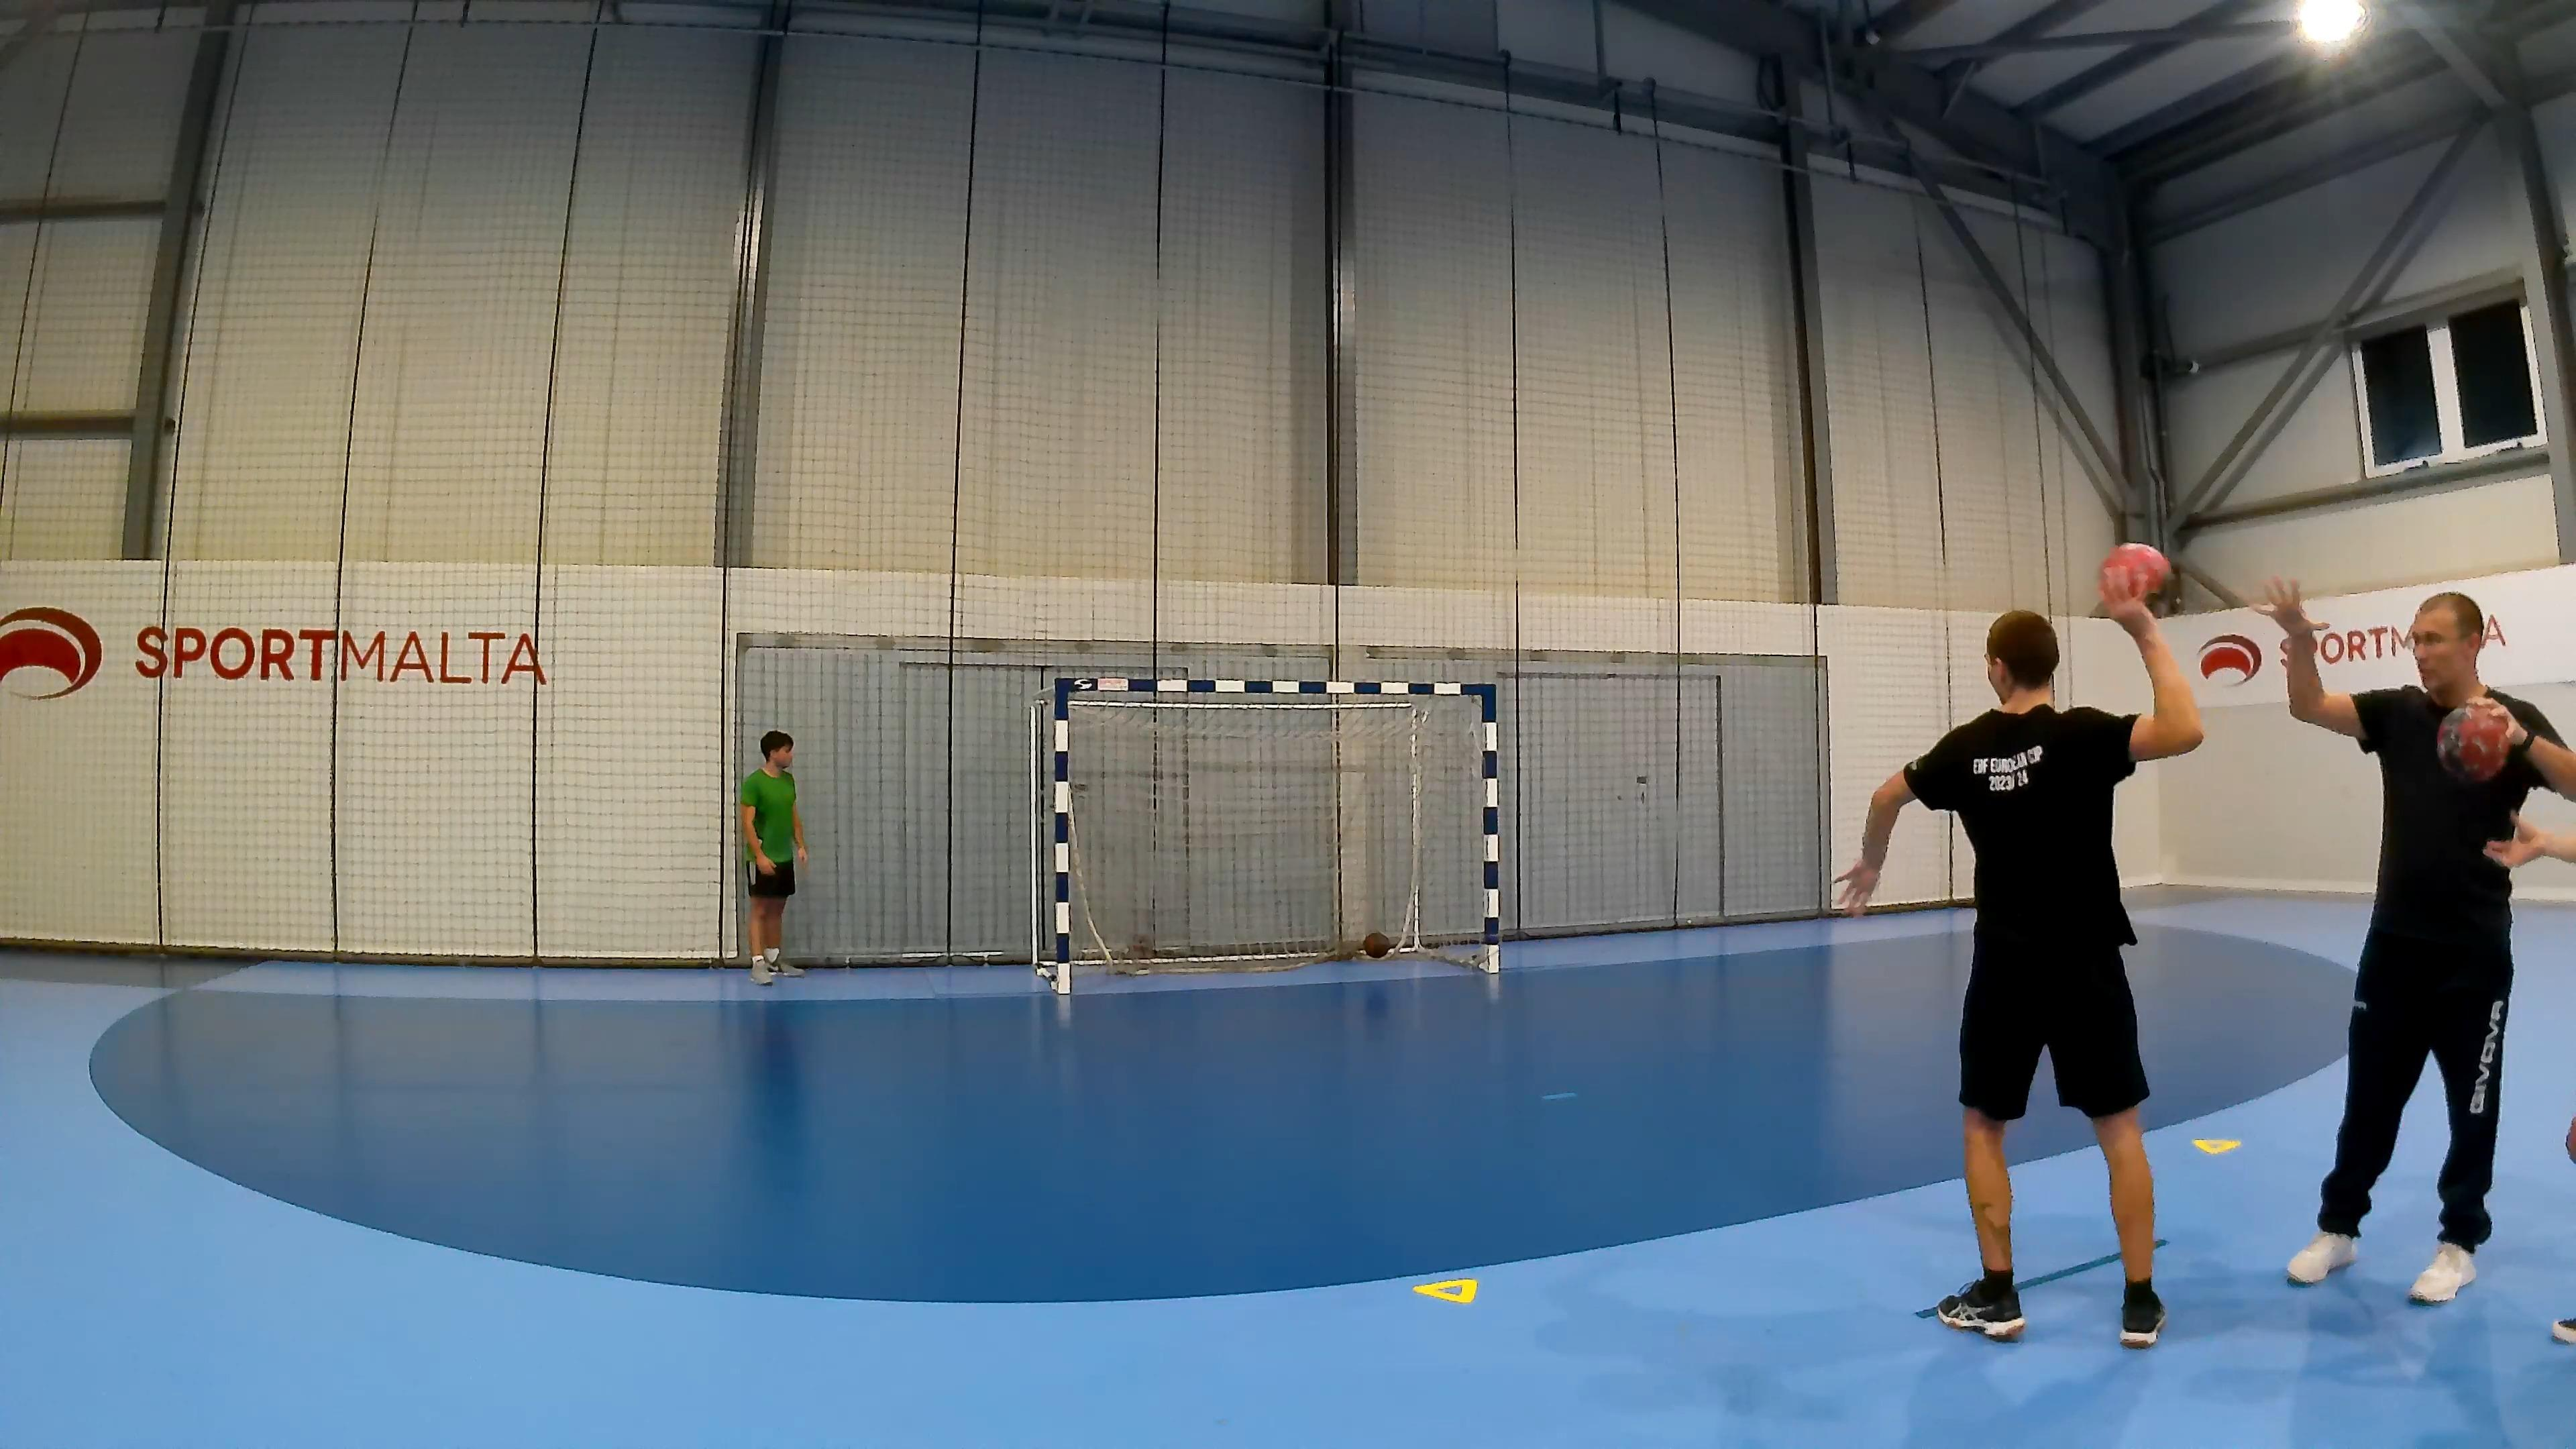handball: (2429, 686, 2528, 794), (2098, 541, 2171, 603)
